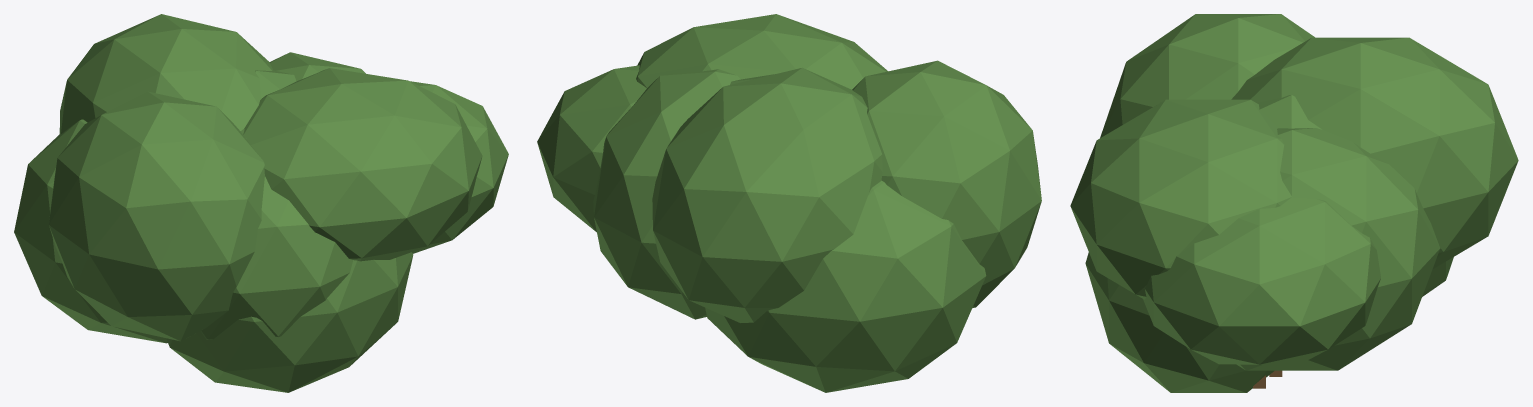
File: shrub-1.glb
The picture shows the model from 3 angles, left to right: view 1: azimuth 30°, elevation 25°; view 2: azimuth 150°, elevation 25°; view 3: azimuth 270°, elevation 25°; orthographic projection. The views are drawn at different scales.
Visible parts, largest first — view 1: shrub-1; view 2: shrub-1; view 3: shrub-1.
Part boxes in pixels (<box>): shrub-1: <box>14,14,508,392</box>; shrub-1: <box>537,14,1041,392</box>; shrub-1: <box>1070,14,1518,392</box>.
Bounding box in the file's own units: 2.83 × 1.94 × 2.4.
